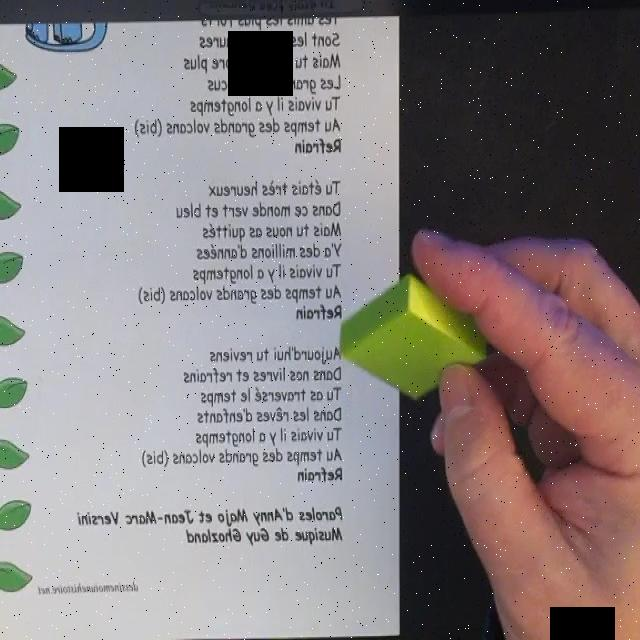square: (338, 275, 488, 402)
